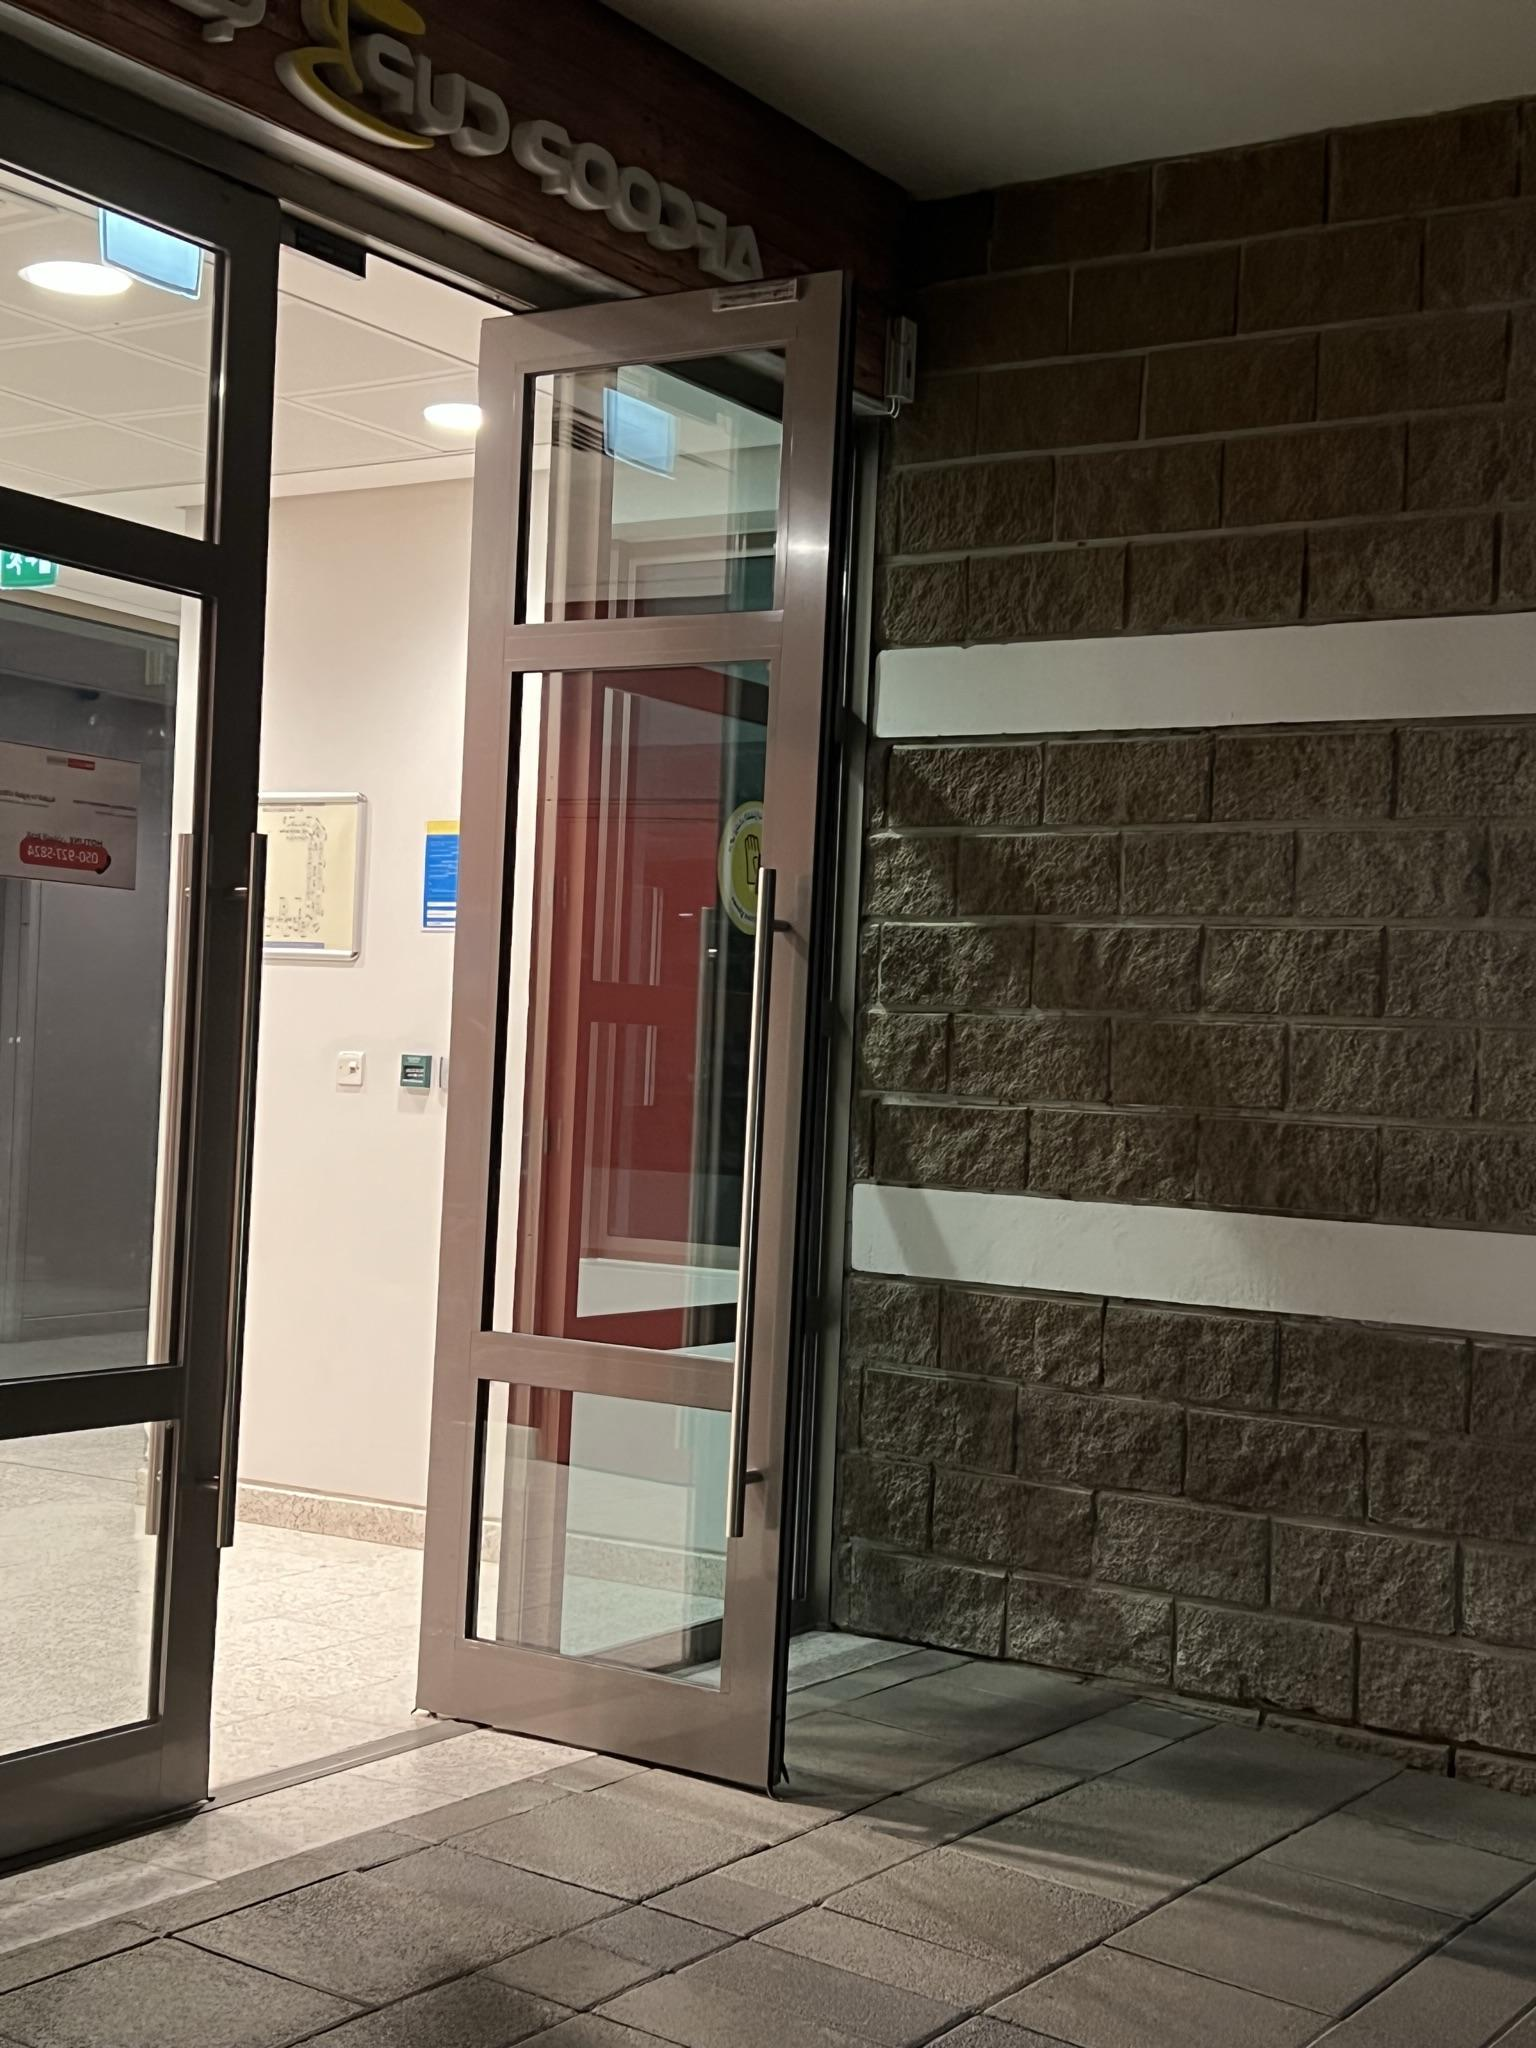door: (399, 271, 839, 1746)
handle: (718, 861, 807, 1550)
